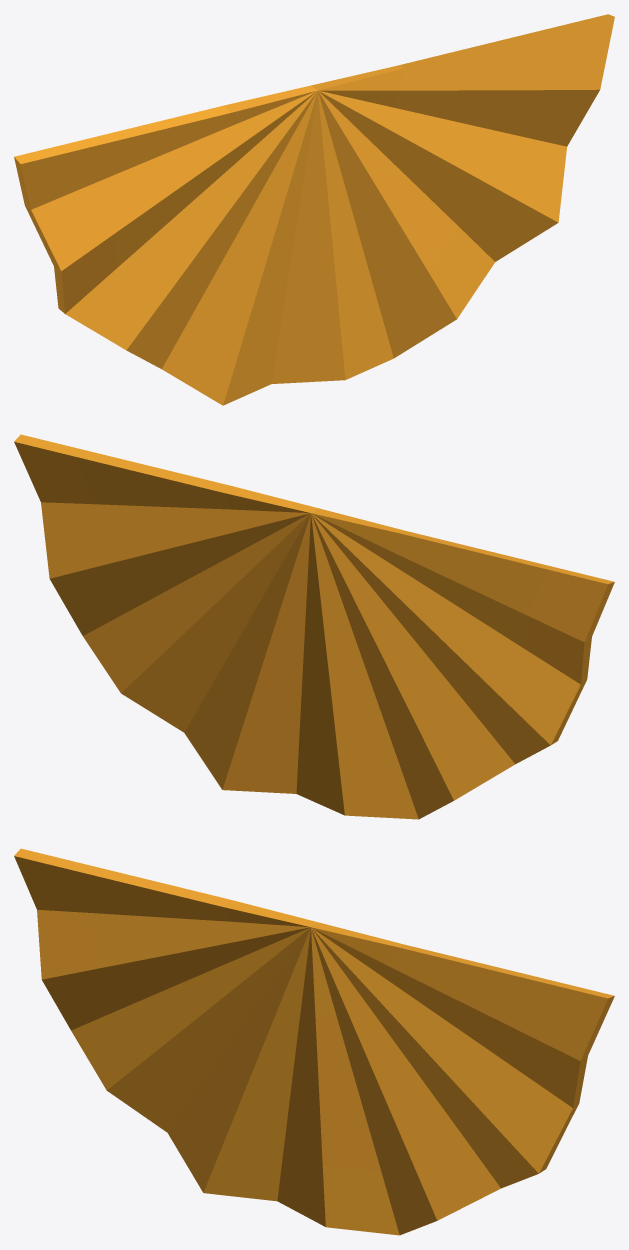
File: SM_Decor_Semicircle_B_4july.fbx
The picture shows the model from 3 angles, top to bottom: view 1: azimuth 30°, elevation 25°; view 2: azimuth 150°, elevation 25°; view 3: azimuth 330°, elevation 25°; orthographic projection.
Visible parts, largest first — view 1: decor-semicircle-b-4july; view 2: decor-semicircle-b-4july; view 3: decor-semicircle-b-4july.
Part boxes in pixels (x1,y1,x2,y2): decor-semicircle-b-4july: (14, 14, 614, 405); decor-semicircle-b-4july: (14, 434, 614, 819); decor-semicircle-b-4july: (14, 848, 614, 1235).
Bounding box in the file's own units: 0.496 × 0.2346 × 0.0285.
